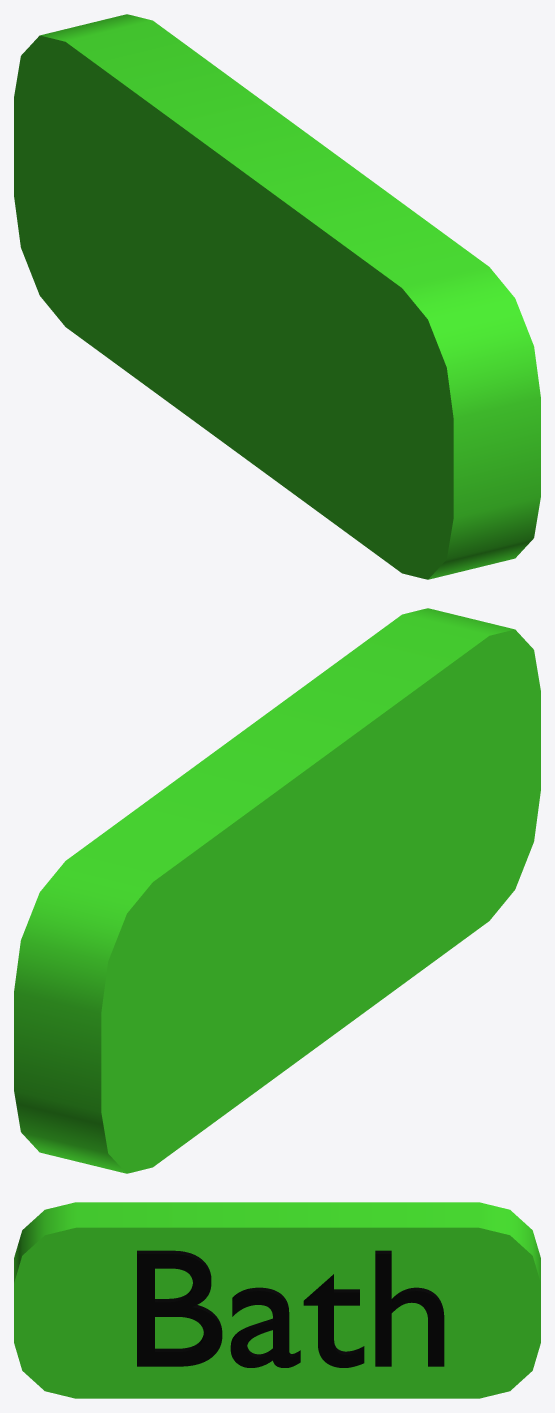
The model's file is BanyoTabela.fbx.
The picture shows the model from 3 angles, top to bottom: view 1: azimuth 30°, elevation 25°; view 2: azimuth 150°, elevation 25°; view 3: azimuth 270°, elevation 25°; orthographic projection. The views are drawn at different scales.
Visible parts, largest first — view 1: Banyo; view 2: Banyo; view 3: Banyo.
Boxes of the visible parts, x1,y1,x2,y2 form: Banyo: (14, 14, 540, 579); Banyo: (14, 608, 540, 1173); Banyo: (14, 1202, 540, 1398).
Bounding box in the file's own units: 15.21 × 41.89 × 117.
